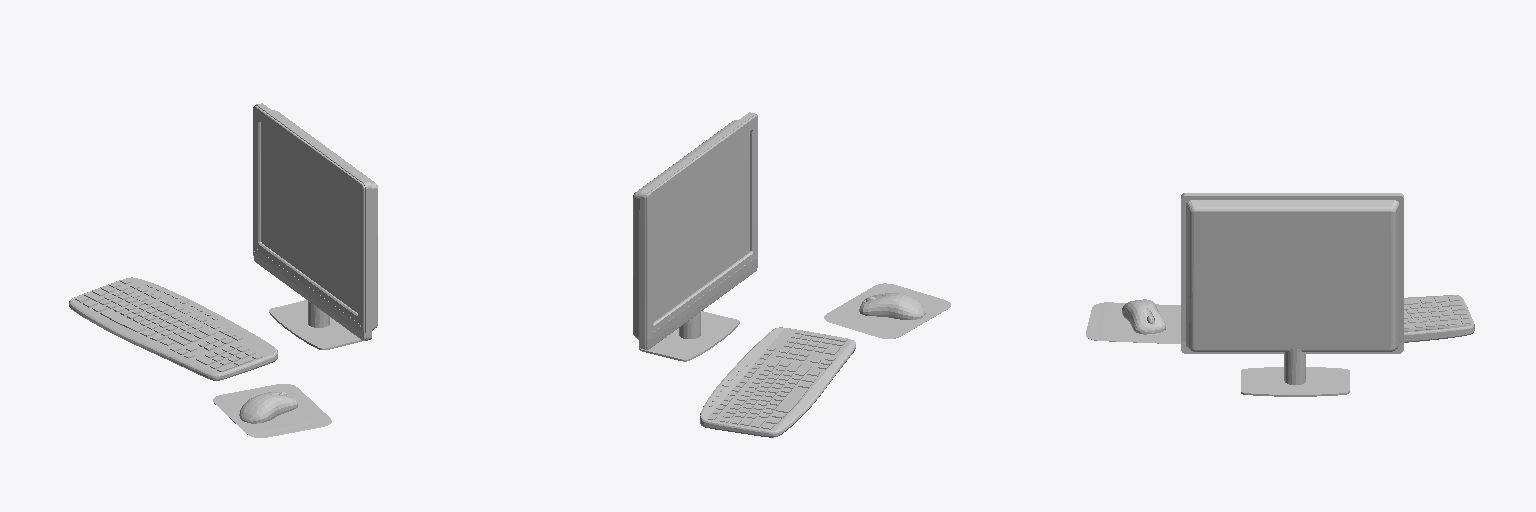
The model's file is monitor4.obj.
The picture shows the model from 3 angles: view 1: azimuth 30°, elevation 25°; view 2: azimuth 150°, elevation 25°; view 3: azimuth 270°, elevation 25°; orthographic projection.
Parts seen in each view (by area): view 1: 3d-model.003_3d-model.010; view 2: 3d-model.003_3d-model.010; view 3: 3d-model.003_3d-model.010.
Part boxes in pixels (left/top/right/bottom): 3d-model.003_3d-model.010: left=69, top=103, right=377, bottom=437; 3d-model.003_3d-model.010: left=633, top=112, right=950, bottom=437; 3d-model.003_3d-model.010: left=1086, top=193, right=1474, bottom=396.
Size of the model in its own units: 3.42 by 3.05 by 5.8.